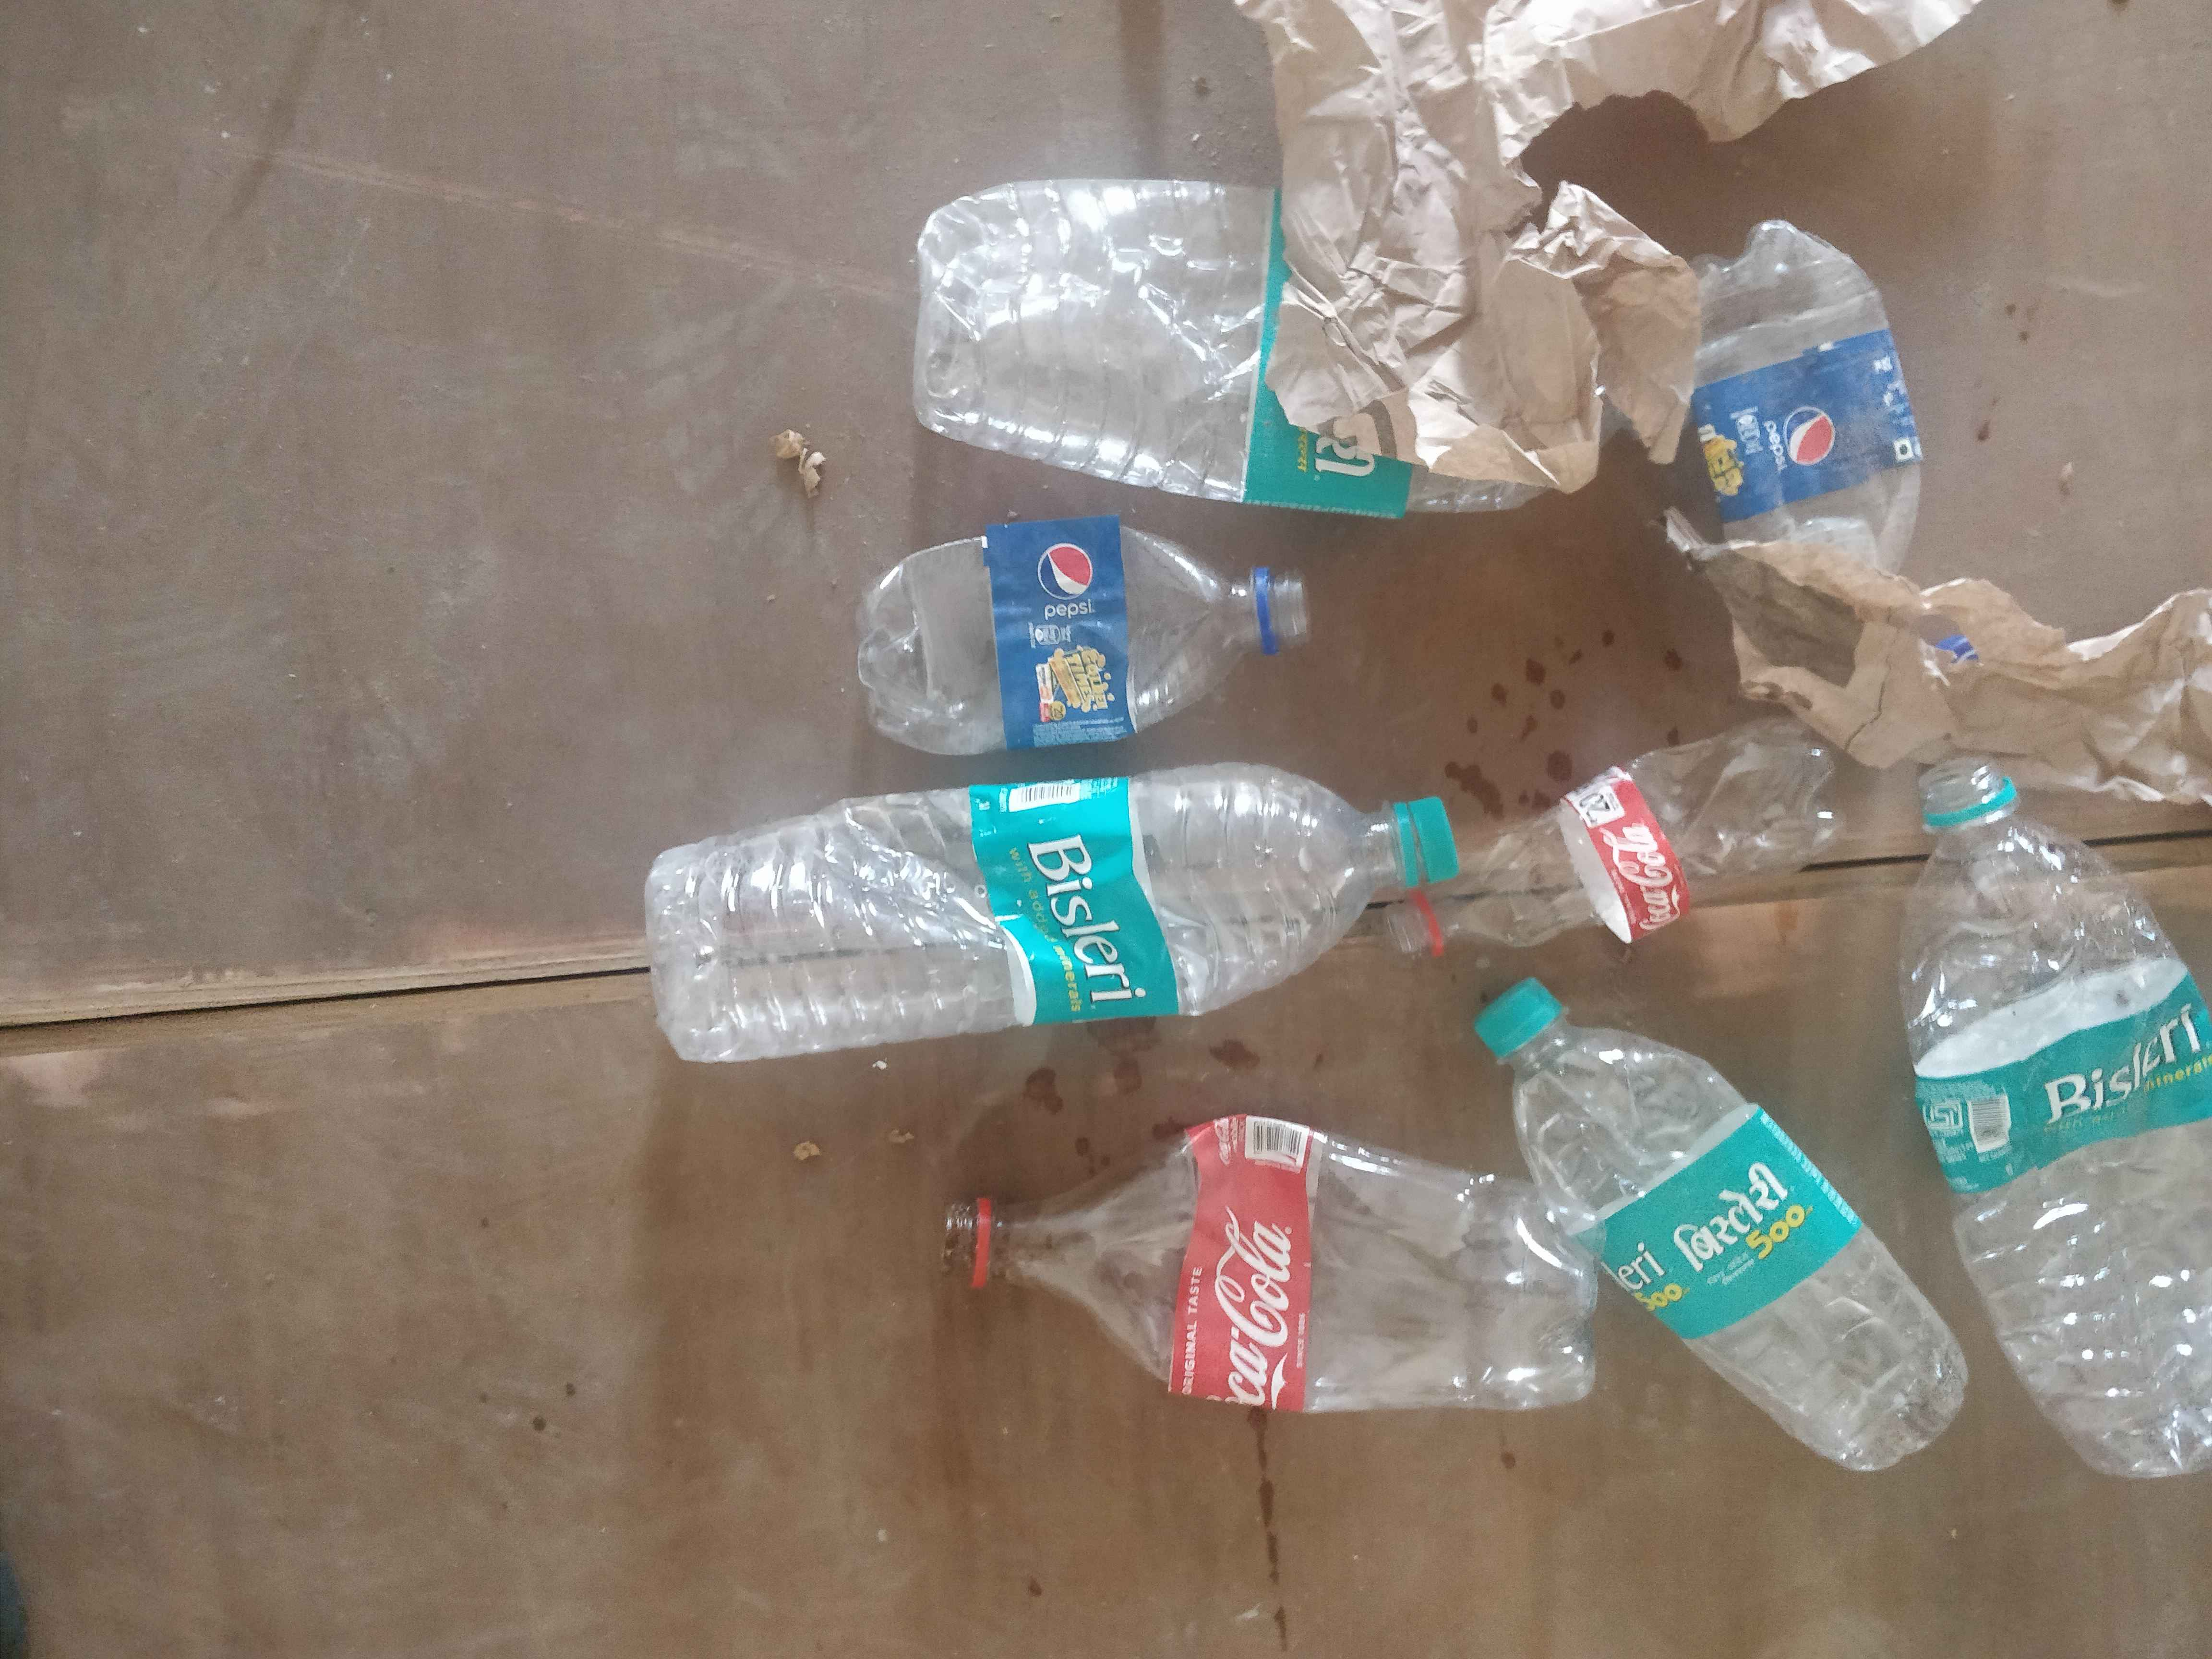Bisleri: (1949, 1014, 2212, 1185), (1017, 781, 1170, 1019), (1634, 1159, 1801, 1312), (1258, 422, 1421, 497)
Coca-Cola: (1193, 1134, 1305, 1417), (1590, 803, 1700, 932)
pepsi: (1714, 340, 1902, 512), (1010, 518, 1130, 749)
